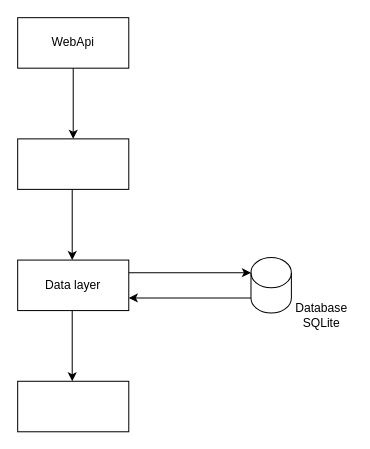
The diagram is 370 pixels wide and 449 high, and some of its shapes have lost their labels. Each missing label, with the box of its shape:
Domain layer: (17, 380, 129, 432)
Usecase layer: (17, 138, 129, 189)
